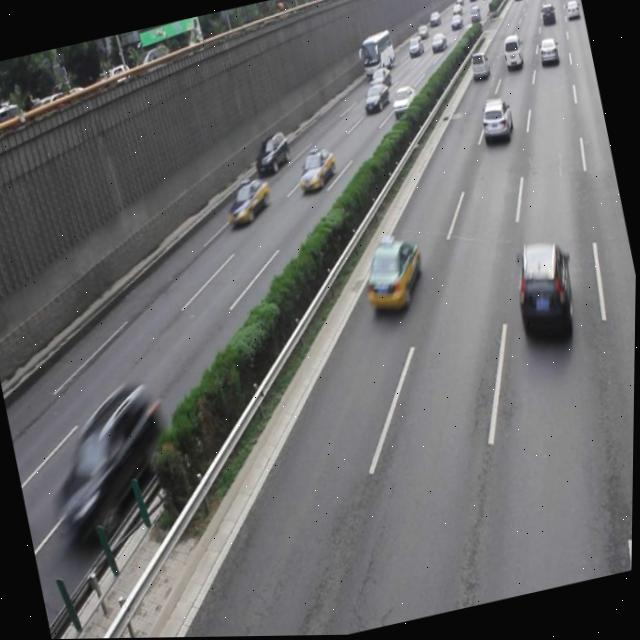car: (42, 379, 181, 546), (505, 238, 582, 350), (356, 232, 429, 319), (220, 174, 274, 227), (292, 147, 339, 194), (249, 129, 294, 176), (476, 96, 515, 149)
